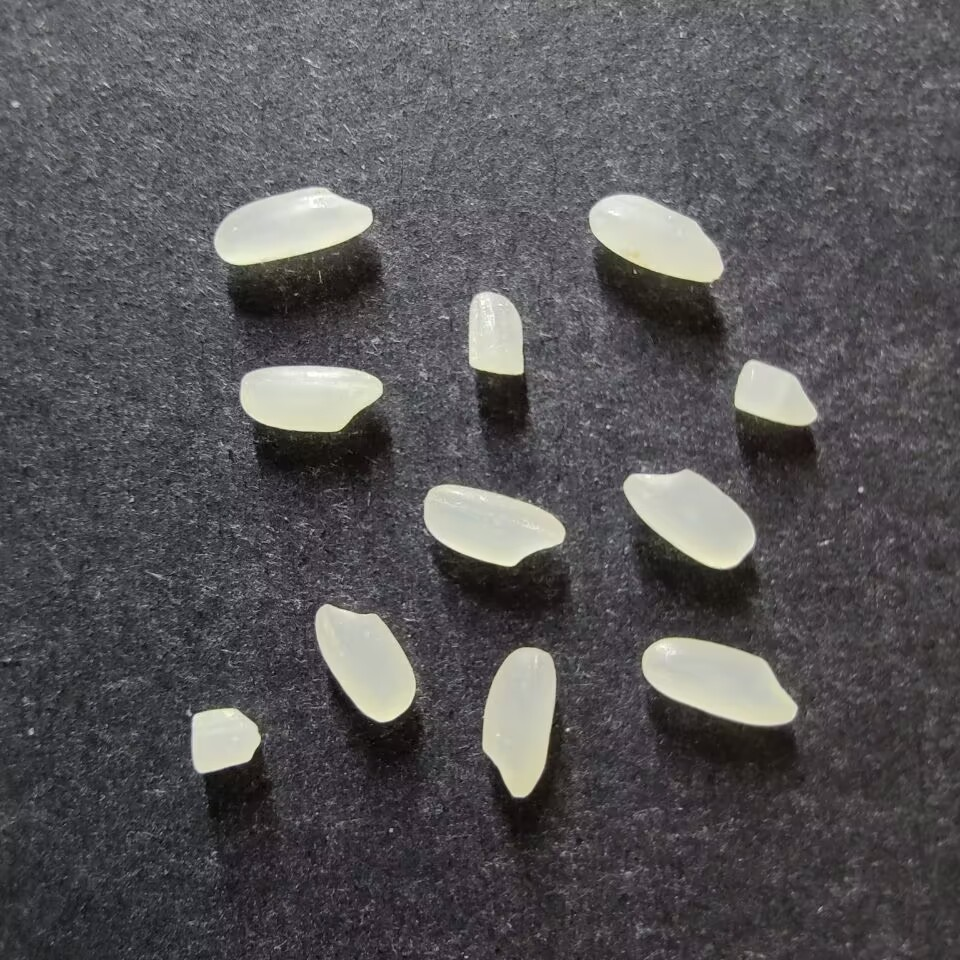broken: (733, 359, 817, 426), (466, 292, 525, 375), (189, 707, 260, 774)
rice: (640, 637, 798, 726), (622, 468, 755, 570), (213, 186, 373, 265), (314, 602, 416, 723), (588, 193, 723, 283), (422, 484, 565, 567), (480, 647, 557, 797), (239, 365, 383, 433)
